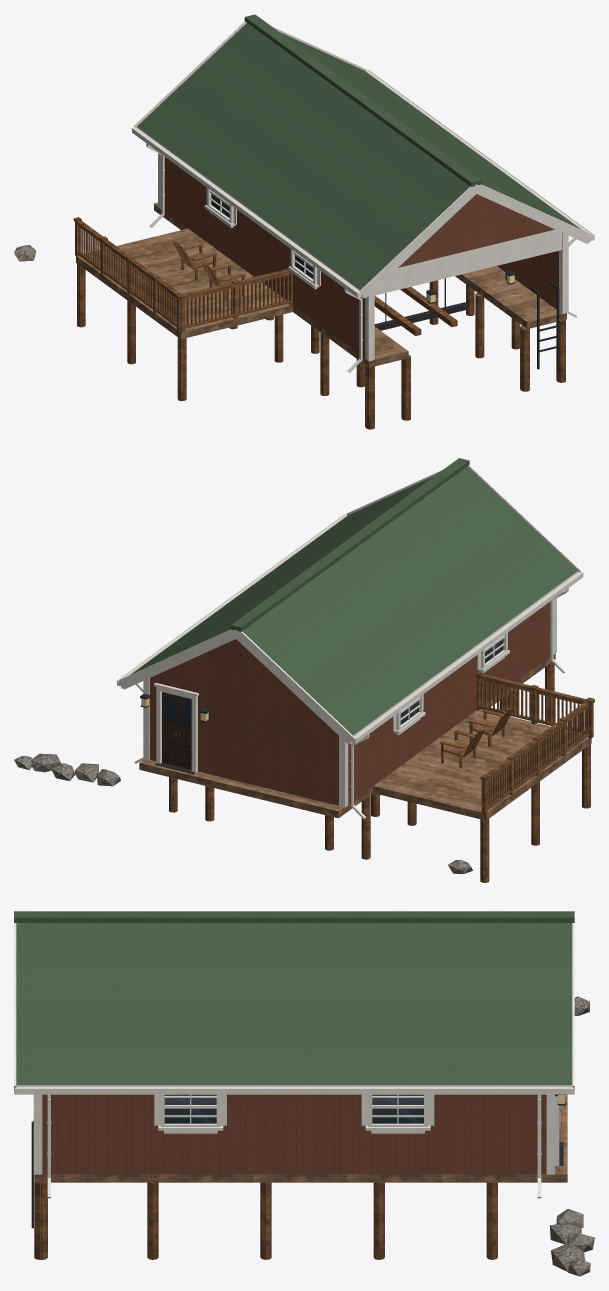
Rendered from se_boathouse_lift.fbx.
The picture shows the model from 3 angles, top to bottom: view 1: azimuth 30°, elevation 25°; view 2: azimuth 150°, elevation 25°; view 3: azimuth 270°, elevation 25°; orthographic projection. The views are drawn at different scales.
Parts seen in each view (by area): view 1: se_boathouse_lift_LOD0; view 2: se_boathouse_lift_LOD0; view 3: se_boathouse_lift_LOD0.
Part boxes in pixels (left/top/right/bottom): se_boathouse_lift_LOD0: left=14, top=14, right=594, bottom=429; se_boathouse_lift_LOD0: left=14, top=458, right=594, bottom=882; se_boathouse_lift_LOD0: left=14, top=911, right=594, bottom=1276.
Size of what is drawn, in the model's own units: 13.69 by 6.68 by 12.33.
Materials: 2 (2 with a texture image).
